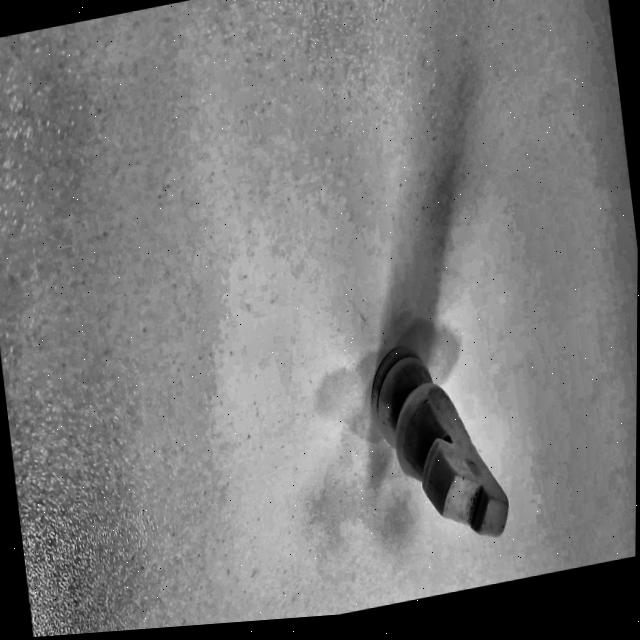white-knight: (368, 344, 508, 536)
